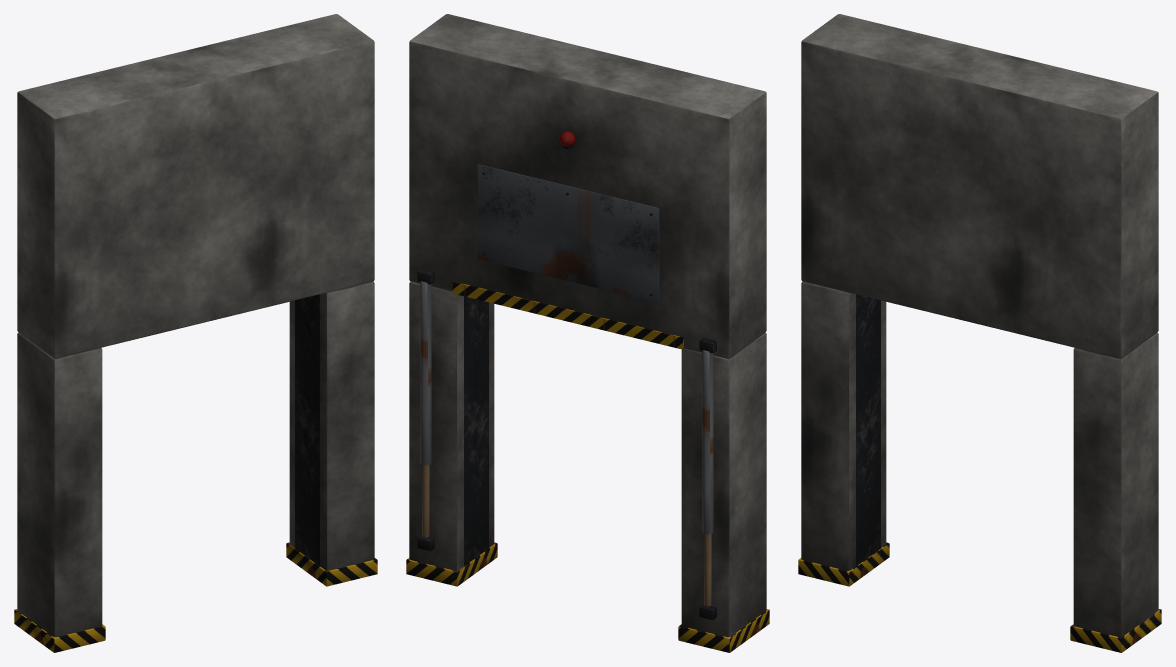
The model's file is door_frame.gltf.
3 views of the same model, side by side, from view 1: azimuth 30°, elevation 25°; view 2: azimuth 150°, elevation 25°; view 3: azimuth 330°, elevation 25° (orthographic).
Parts seen in each view (by area): view 1: door_frame; view 2: door_frame; view 3: door_frame.
Part boxes in pixels (x1,y1,x2,y2): door_frame: (14, 14, 377, 652); door_frame: (406, 14, 769, 652); door_frame: (798, 14, 1161, 652).
Bounding box in the file's own units: 4.64 × 7.3 × 1.1.
7 materials, 7 textured.
